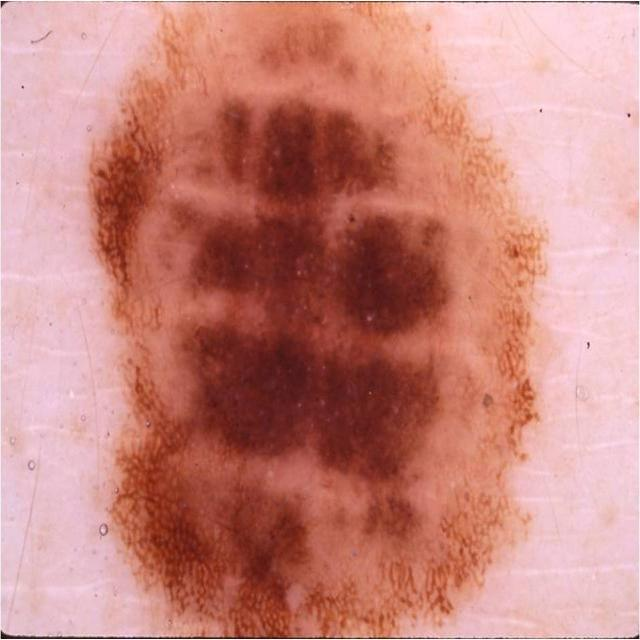Benign: (86, 0, 552, 640)
